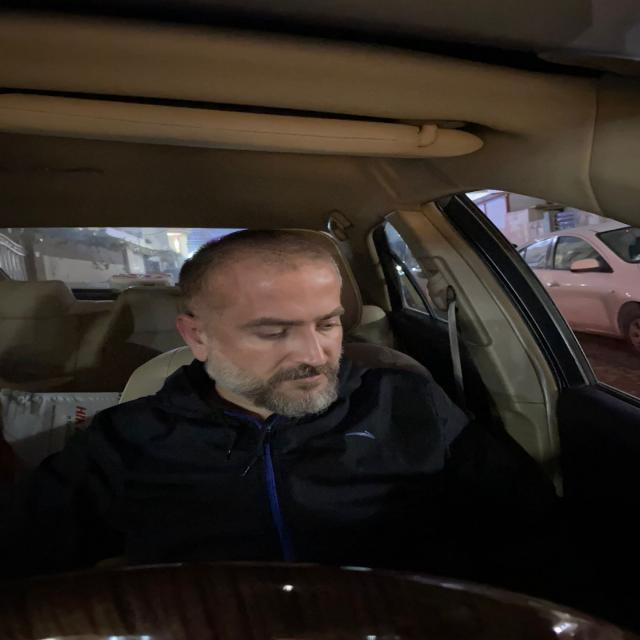person: (165, 228, 374, 443)
